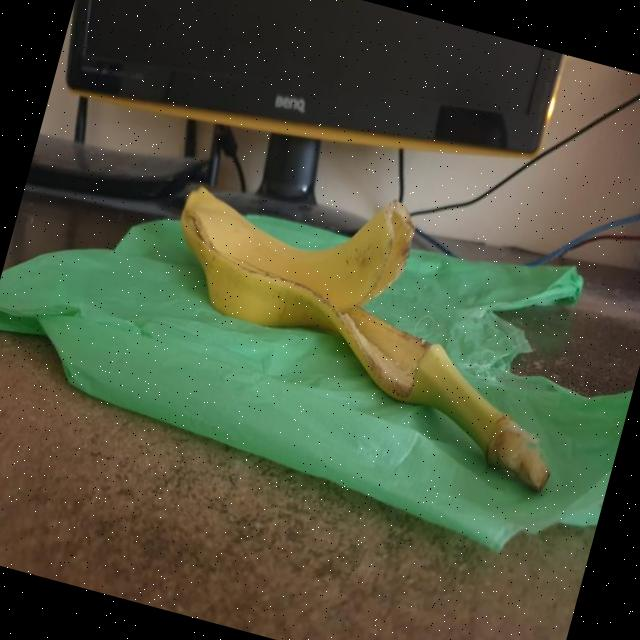banana-peel: (133, 144, 609, 495)
